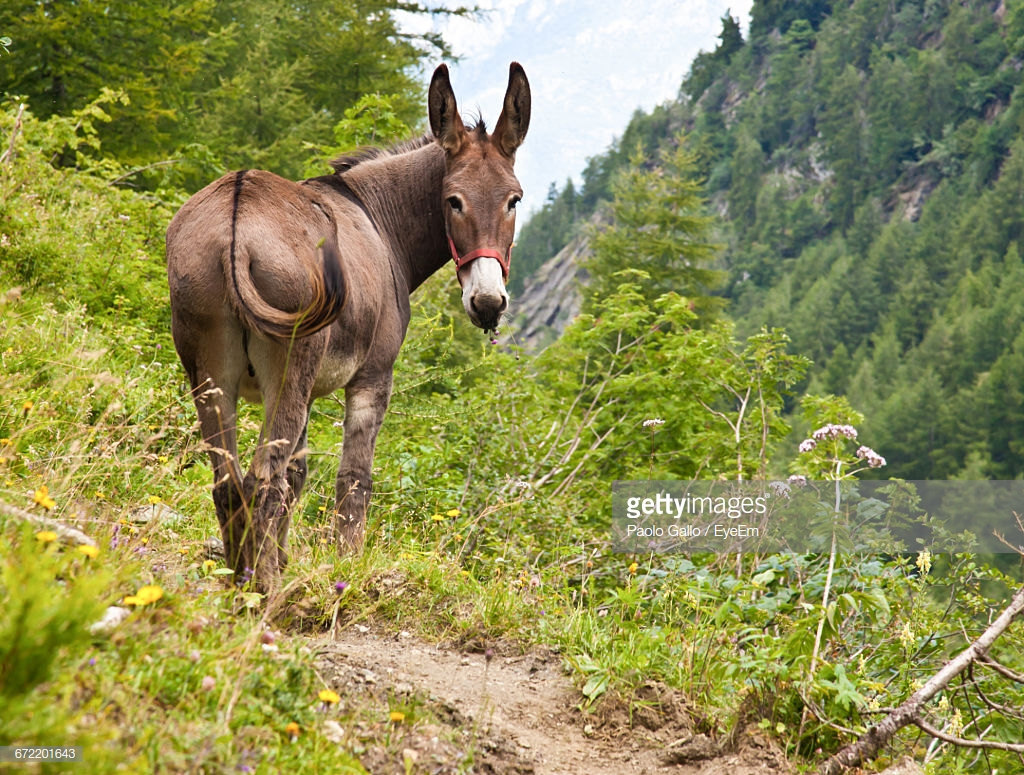donkey: (169, 63, 539, 587)
